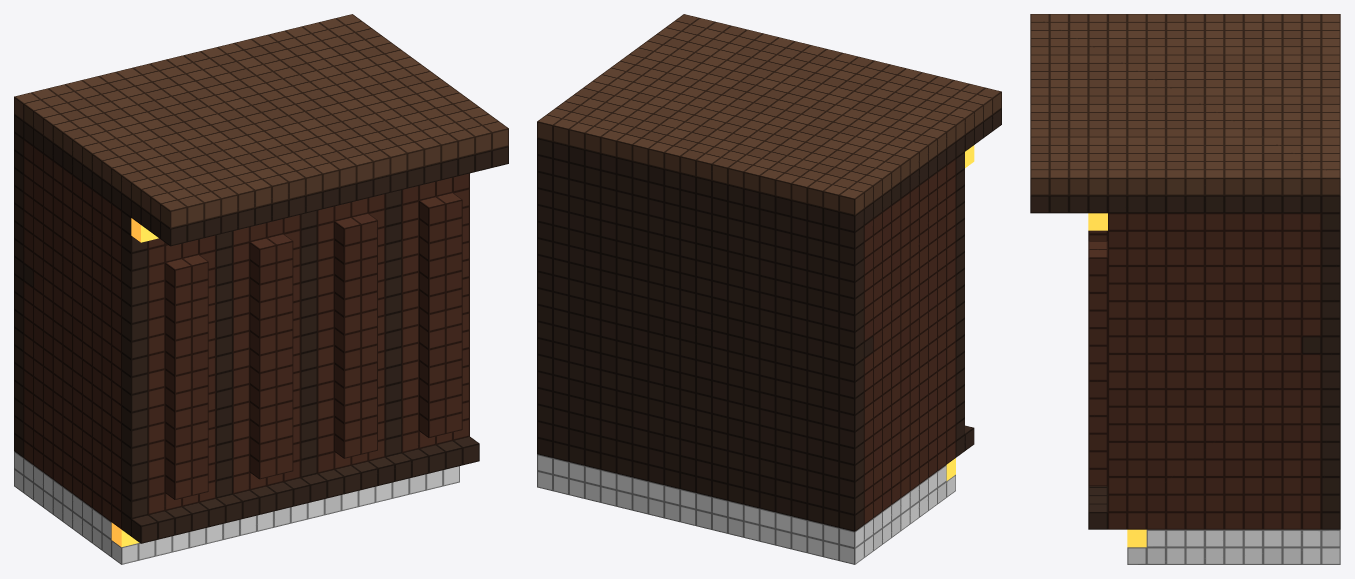
File: bar_counter.glb
3 views of the same model, side by side, from view 1: azimuth 30°, elevation 25°; view 2: azimuth 150°, elevation 25°; view 3: azimuth 270°, elevation 25° (orthographic). The views are drawn at different scales.
Visible parts, largest first — view 1: bar_counter; view 2: bar_counter; view 3: bar_counter.
Part boxes in pixels (x1,y1,x2,y2): bar_counter: [14, 14, 508, 564]; bar_counter: [537, 14, 1001, 564]; bar_counter: [1030, 14, 1340, 564].
Bounding box in the file's own units: 1 × 1.1 × 0.8.
Materials: 5 (4 with a texture image).
